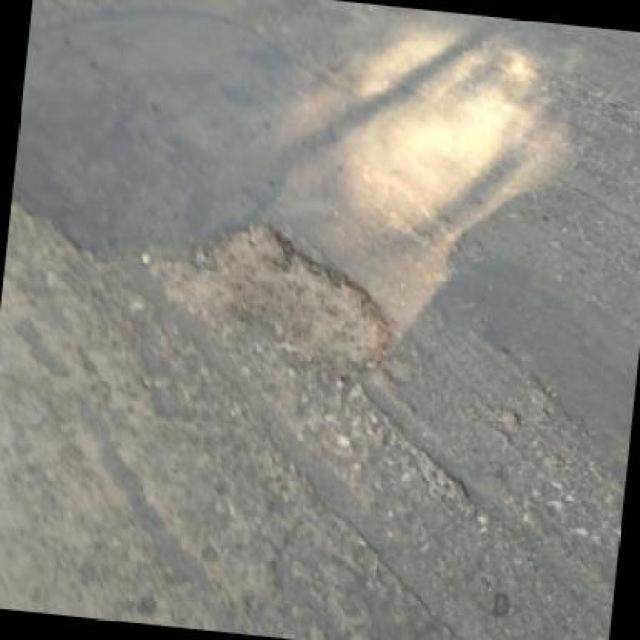pothole1: (130, 206, 398, 380)
